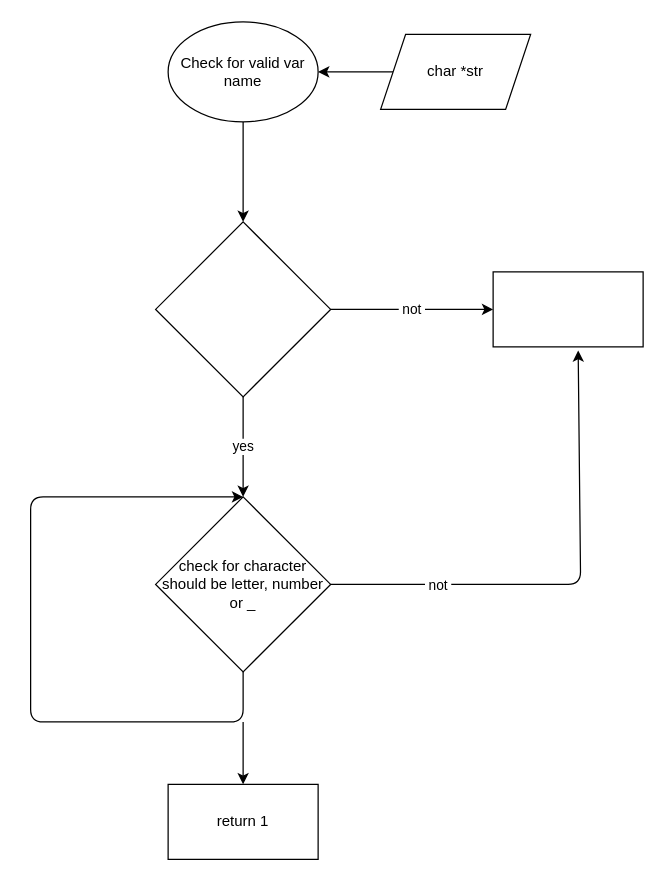
This 665x881 diagram has some shape labels left out. The shapes that lost their labels are listed below. From the top down, each one's box as (x1, y1, x2, y2) in pixels, then its label:
(154, 221, 331, 397): check for character should be letter or _
(492, 271, 643, 347): return 0
